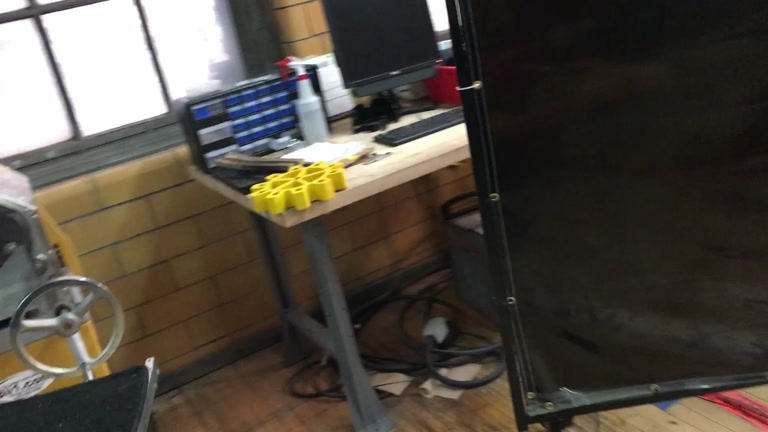gear: (245, 159, 345, 216)
